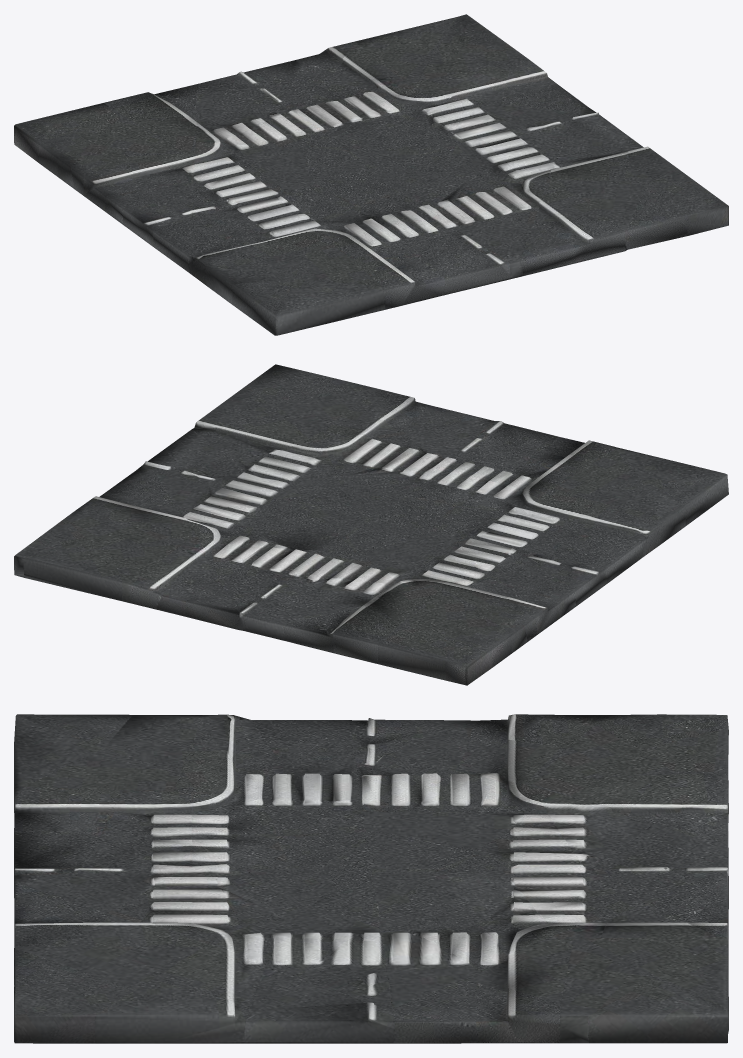
The model's file is roadx_lod1.glb.
3 renders of one model, top to bottom at view 1: azimuth 30°, elevation 25°; view 2: azimuth 150°, elevation 25°; view 3: azimuth 270°, elevation 25°, orthographic. The views are drawn at different scales.
Visible parts, largest first — view 1: mesh_node; view 2: mesh_node; view 3: mesh_node.
Part boxes in pixels (box(x1,y1,x2,y2)): mesh_node: box(14, 14, 728, 335); mesh_node: box(14, 364, 728, 685); mesh_node: box(14, 714, 728, 1043).
Size of the model in its own units: 1.9 by 0.3376 by 1.9.
Materials: 1 (1 with a texture image).
